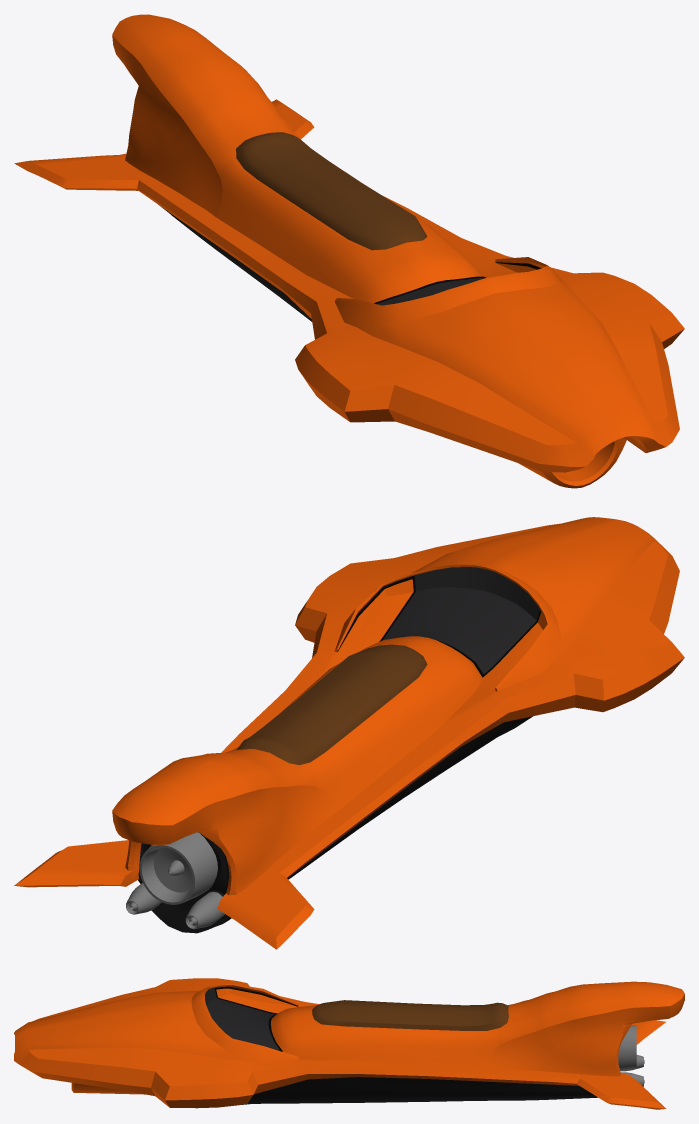
The model's file is Bike.fbx.
The picture shows the model from 3 angles, top to bottom: view 1: azimuth 30°, elevation 25°; view 2: azimuth 150°, elevation 25°; view 3: azimuth 270°, elevation 25°; orthographic projection. The views are drawn at different scales.
Visible parts, largest first — view 1: Bike; view 2: Bike; view 3: Bike.
Part boxes in pixels (bbox=[...]): Bike: bbox=[14, 14, 684, 488]; Bike: bbox=[14, 517, 684, 949]; Bike: bbox=[14, 978, 684, 1109].
Bounding box in the file's own units: 281 × 133 × 705.
